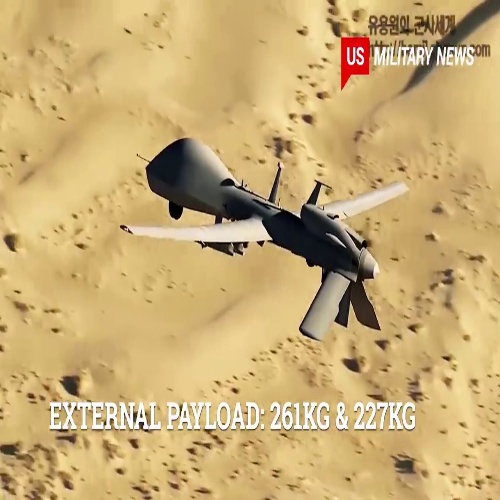uav424: (121, 135, 410, 342)
